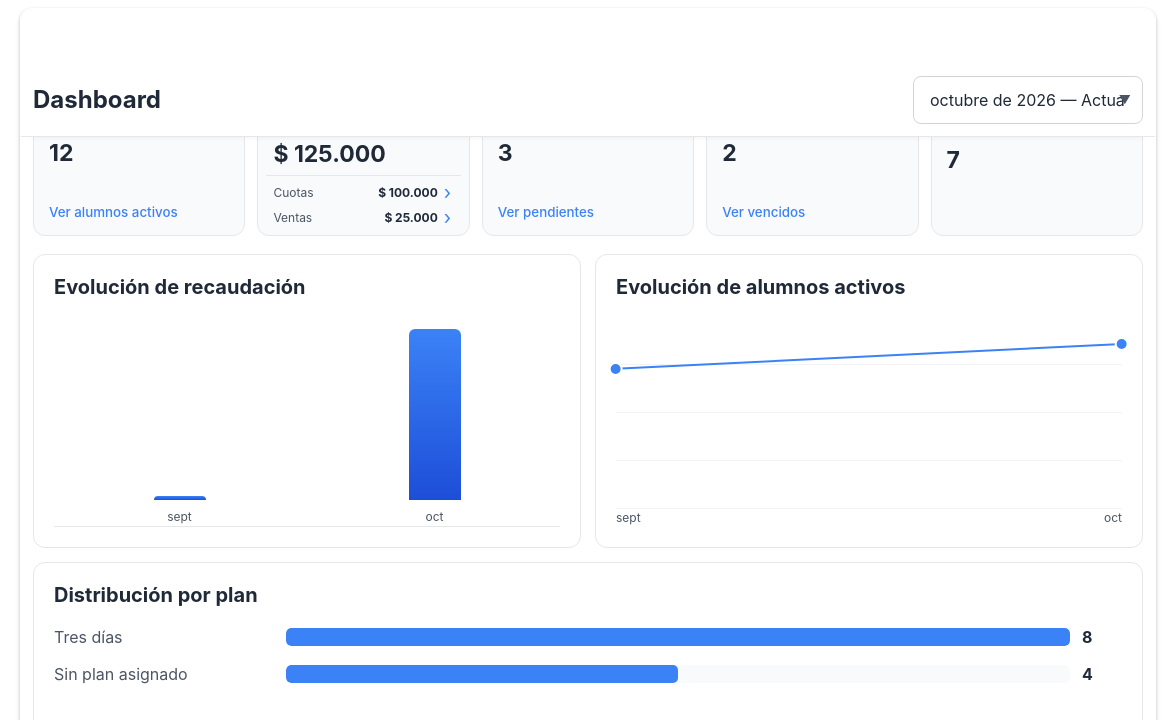
Scenario: diferencia cuotas y ventas y cada importe navega a su origen conservando el período
Expected: the text "12" is shown, 49,139 -> 73,167
Expected: the button with aria-label "Ver ventas de" reads "Ventas $ 25.000 ›", 266,205 -> 461,230
Click the button "Cuotas $ 100.000 ›": coordinates (364, 193) 266,180 -> 461,205
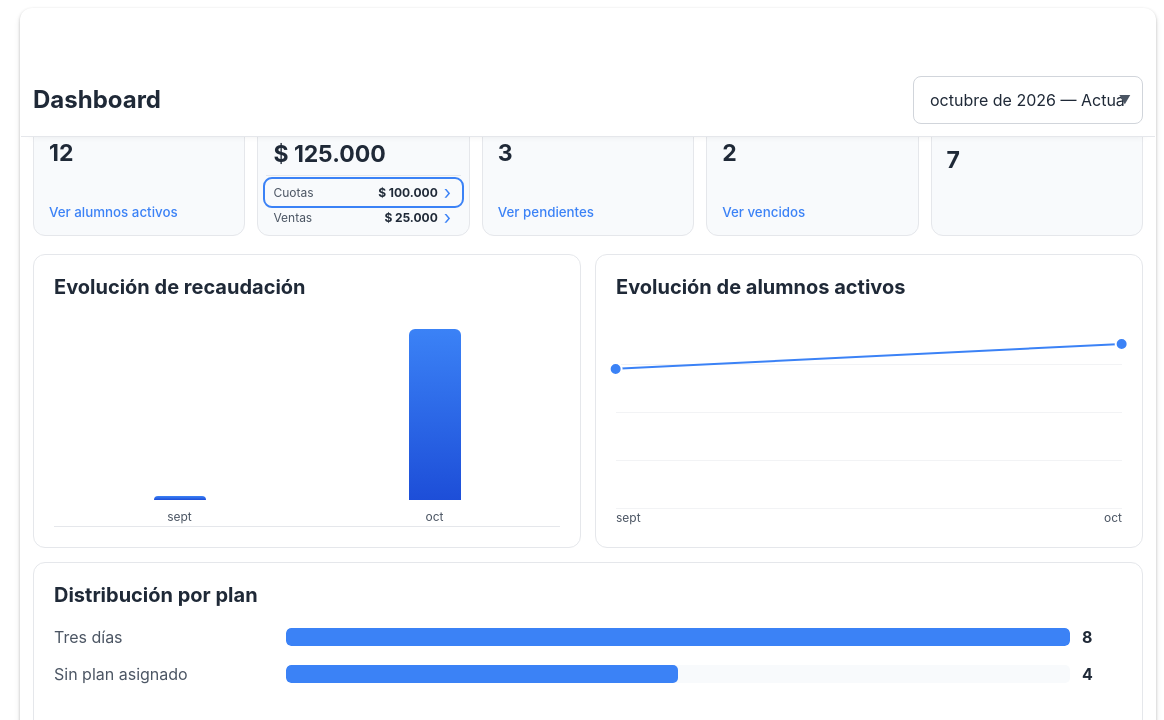
Click the button "Ventas $ 25.000 ›": coordinates (364, 218) 266,205 -> 461,230
(page scrolled)
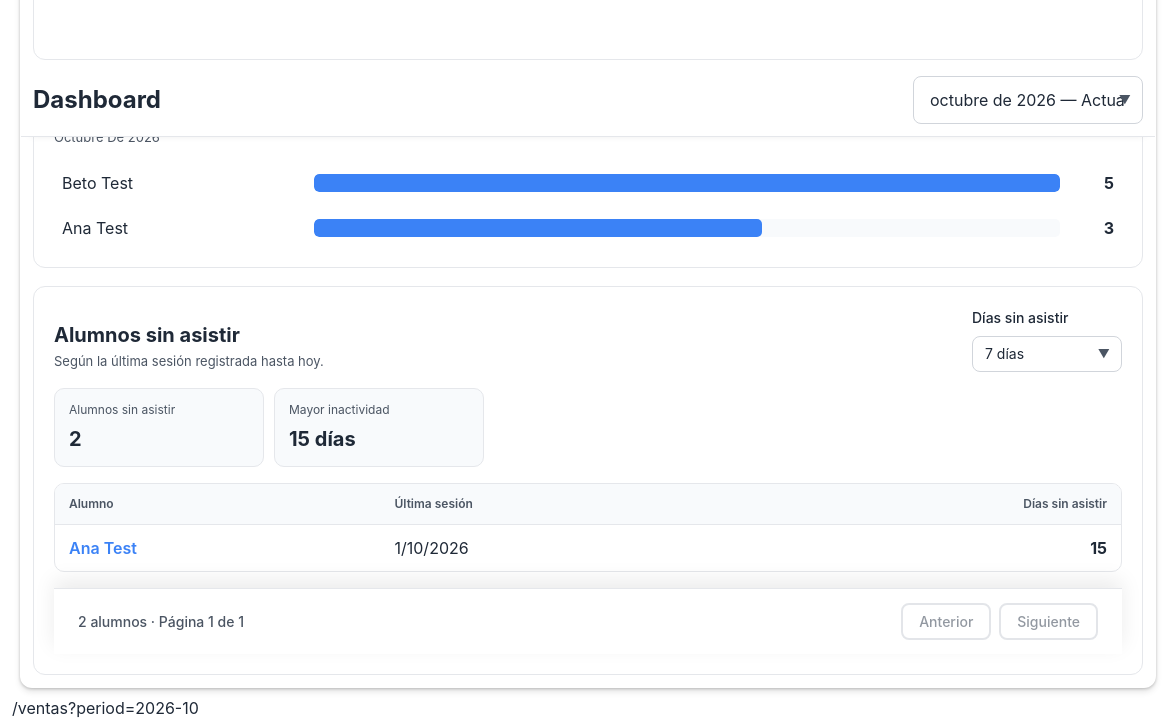
Now the text with test id "location" shows "/ventas?period=", box 12,698 -> 199,718
